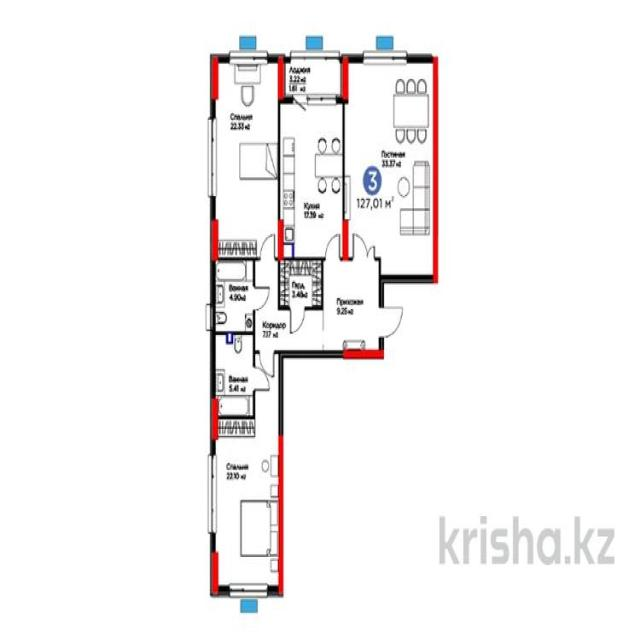balcony: (282, 56, 342, 98)
bathroom: (212, 336, 254, 419), (214, 262, 253, 330)
hallway: (324, 257, 379, 352), (254, 308, 323, 352)
kitchen: (279, 100, 345, 258)
living_room: (344, 56, 437, 257), (216, 59, 280, 257), (212, 418, 280, 594)
studio: (278, 259, 323, 308)
